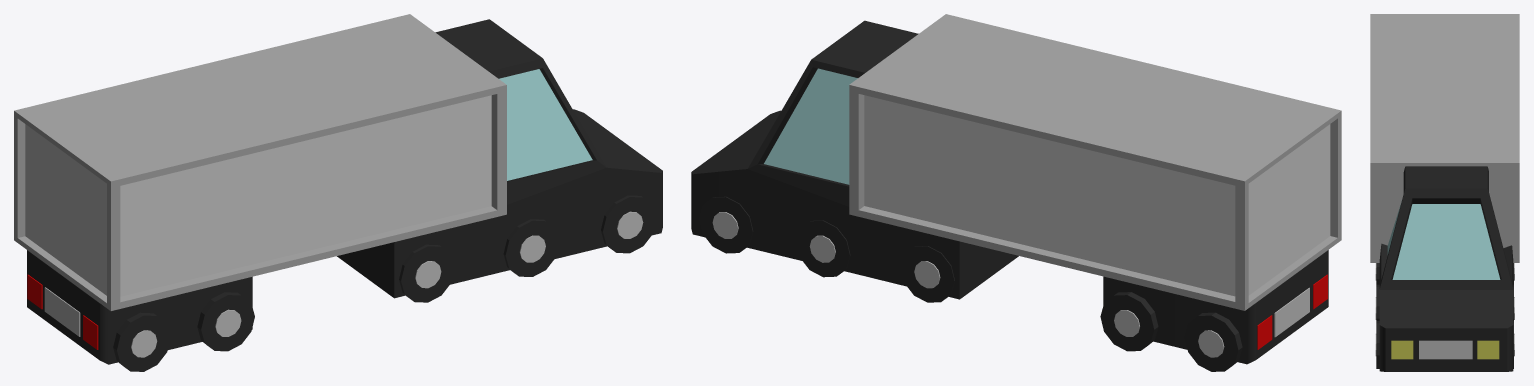
Rendered from Caminhao2.fbx.
3 renders of one model, left to right at view 1: azimuth 30°, elevation 25°; view 2: azimuth 150°, elevation 25°; view 3: azimuth 270°, elevation 25°, orthographic. The views are drawn at different scales.
Visible parts, largest first — view 1: pCube82; view 2: pCube82; view 3: pCube82.
Boxes of the visible parts, <box> form: pCube82: <box>14,14,662,371</box>; pCube82: <box>691,14,1341,371</box>; pCube82: <box>1370,14,1519,371</box>.
Size of the model in its own units: 8.78 by 3.02 by 2.62.
